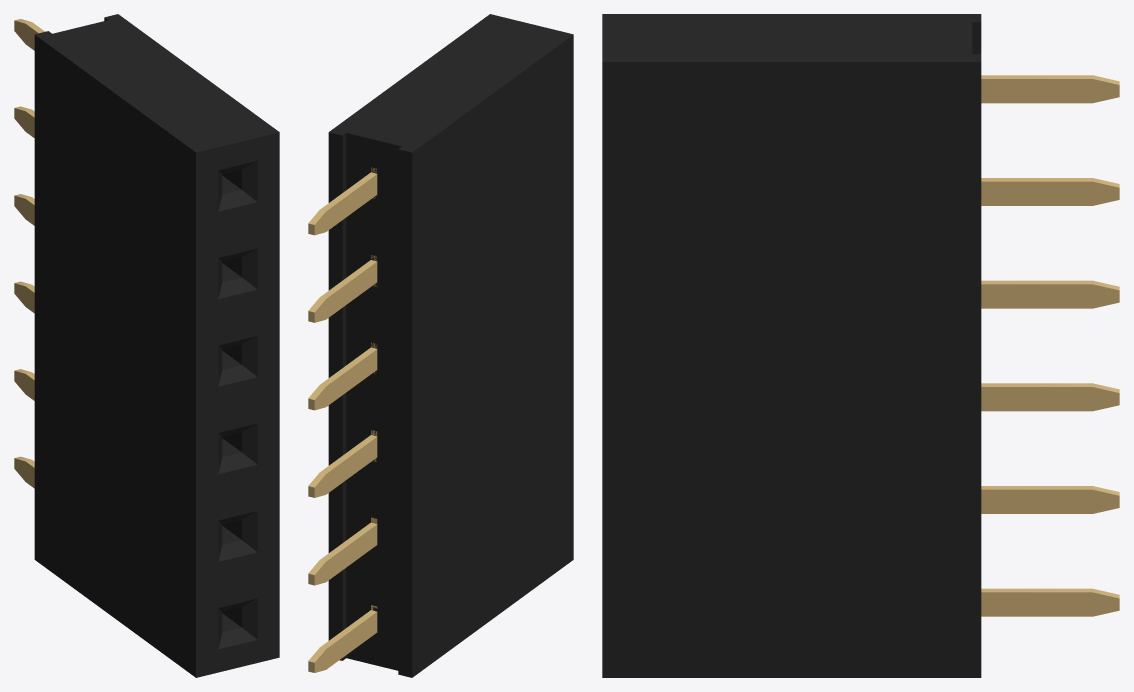
Rendered from socket-1x06.glb.
The picture shows the model from 3 angles, left to right: view 1: azimuth 30°, elevation 25°; view 2: azimuth 150°, elevation 25°; view 3: azimuth 270°, elevation 25°; orthographic projection. The views are drawn at different scales.
Visible parts, largest first — view 1: IC-BODY-EPOXY-04, PIN-02; view 2: IC-BODY-EPOXY-04, PIN-02 (×5); view 3: IC-BODY-EPOXY-04, PIN-02 (×5).
Part boxes in pixels (x1,y1,x2,y2): IC-BODY-EPOXY-04: (34, 14, 279, 677); PIN-02: (14, 19, 44, 488); IC-BODY-EPOXY-04: (328, 14, 573, 677); PIN-02 (×5): (308, 167, 377, 672); IC-BODY-EPOXY-04: (602, 14, 981, 677); PIN-02 (×5): (981, 75, 1119, 616).
Bounding box in the file's own units: 2.54 × 15.24 × 11.6.
